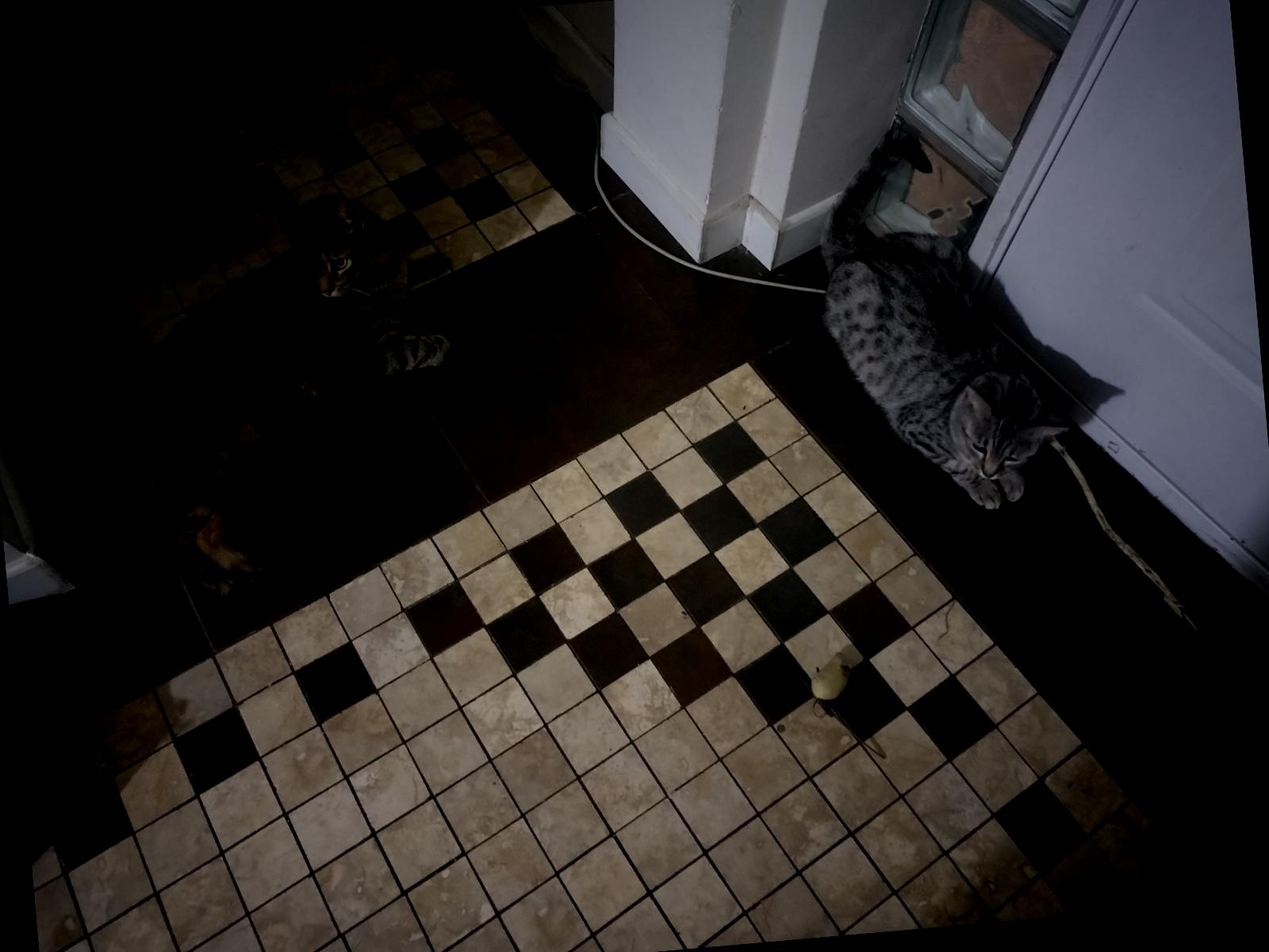macka: (48, 181, 474, 610), (805, 106, 1081, 524)
